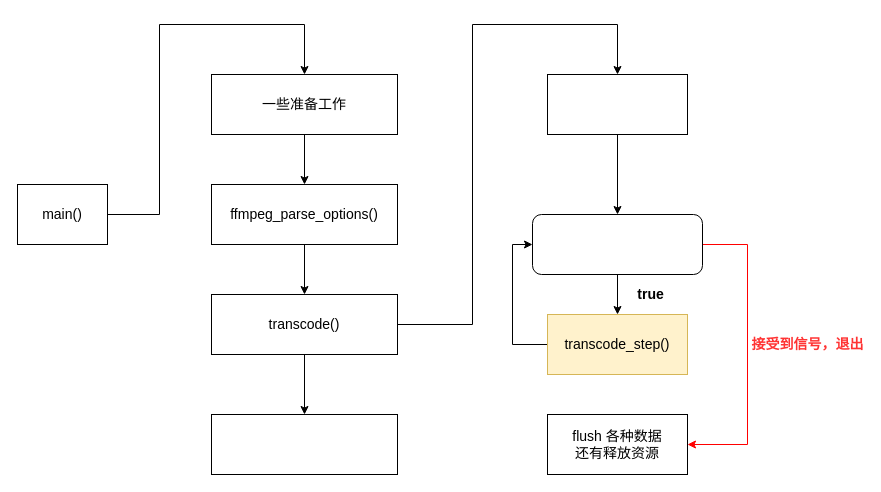
Some shapes in this 881 by 492 pixel diagram are drawn without their labels. The shapes that lost their labels are listed below. From the top down, each one's centre as x and y in pixels, then its label:
point (617, 104): transcode_init()
point (617, 244): while (!received_sigterm) {...}
point (304, 444): exit_program()
